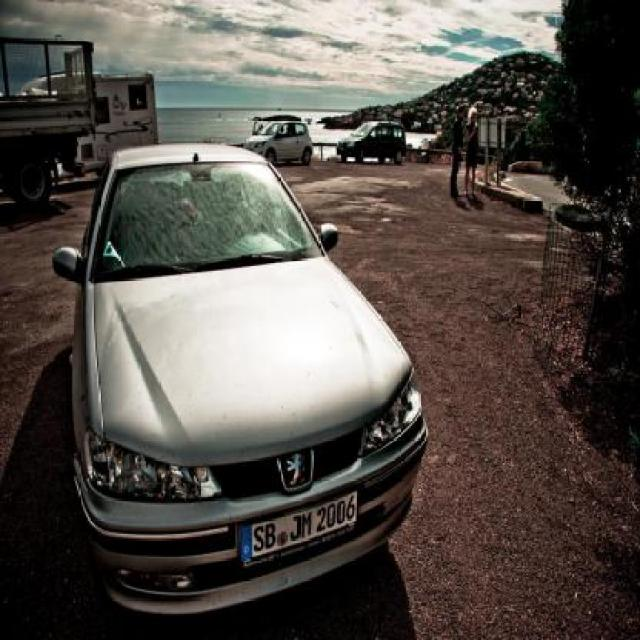License-Plates: (236, 486, 362, 566)
